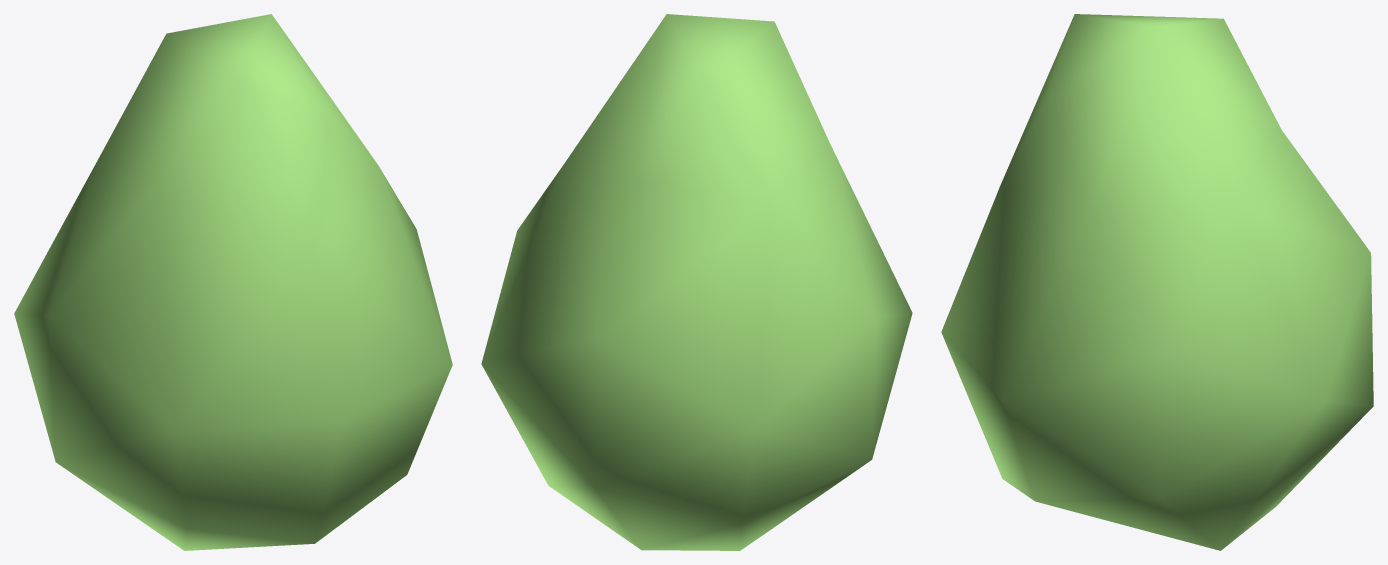
The model's file is pear.glb.
3 views of the same model, side by side, from view 1: azimuth 30°, elevation 25°; view 2: azimuth 150°, elevation 25°; view 3: azimuth 270°, elevation 25° (orthographic). The views are drawn at different scales.
Parts seen in each view (by area): view 1: Mball.002; view 2: Mball.002; view 3: Mball.002.
Part boxes in pixels (<box>): Mball.002: <box>14,14,452,550</box>; Mball.002: <box>481,14,912,550</box>; Mball.002: <box>941,14,1373,550</box>.
Size of the model in its own units: 2.24 by 3.06 by 2.28.
